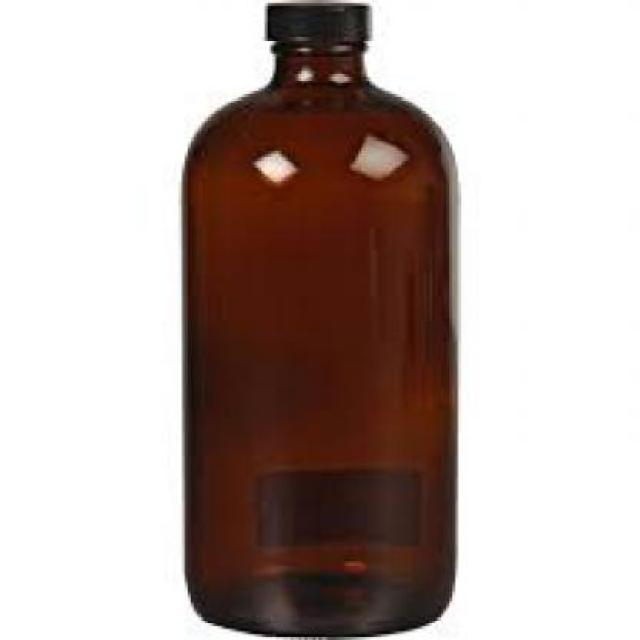GLASS: (182, 40, 464, 637)
METAL: (268, 0, 372, 43)
